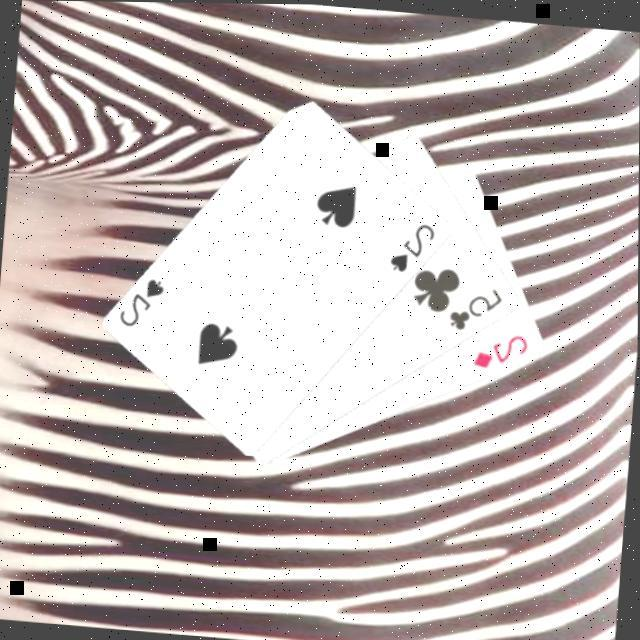2D: (472, 326, 534, 374)
2S: (388, 217, 442, 277), (117, 273, 171, 333)
5C: (447, 280, 508, 336)
